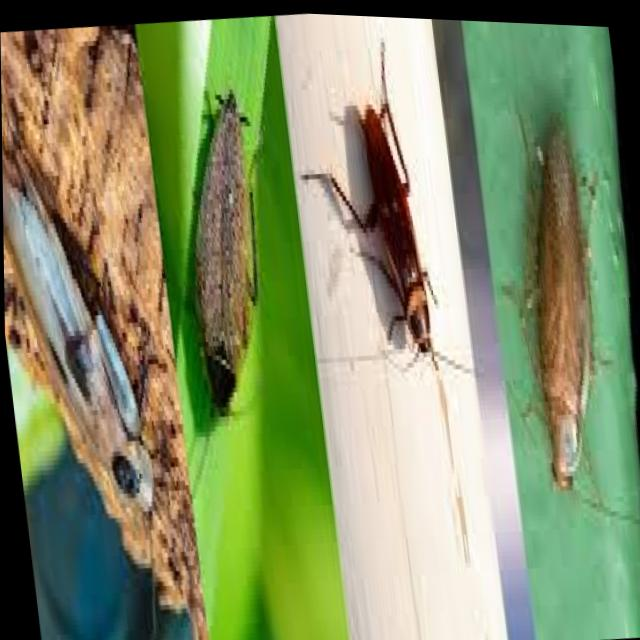Cockroach: (287, 44, 499, 612), (1, 75, 198, 640), (469, 70, 640, 539), (158, 71, 301, 504)
